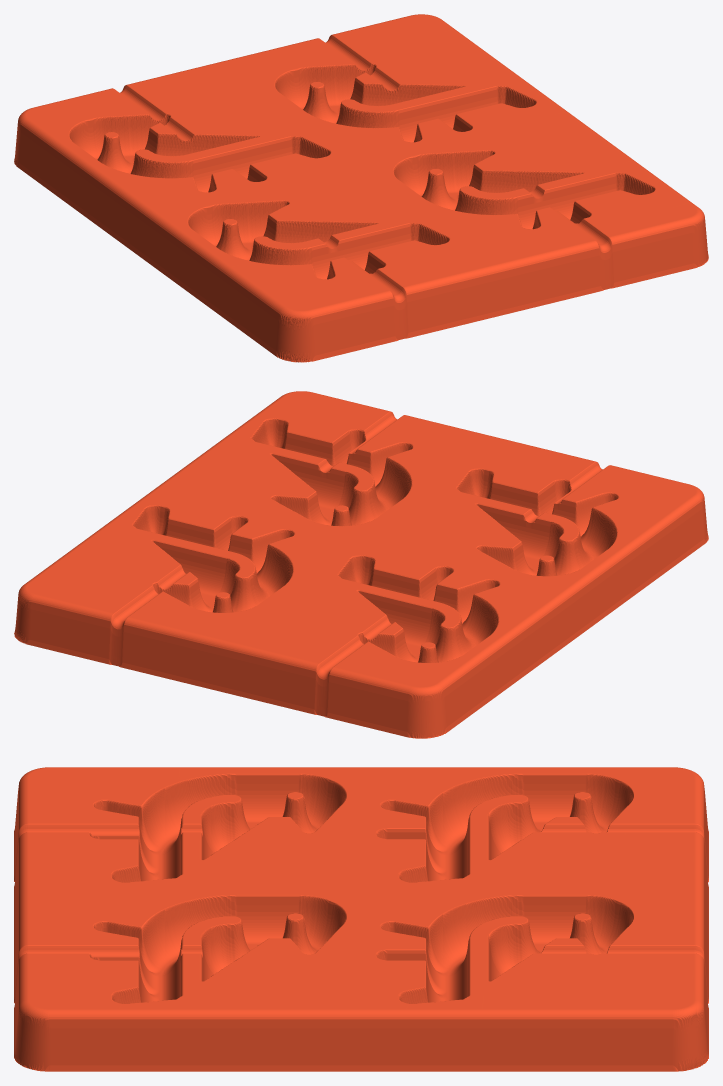
File: mold.glb
The picture shows the model from 3 angles, top to bottom: view 1: azimuth 30°, elevation 25°; view 2: azimuth 150°, elevation 25°; view 3: azimuth 270°, elevation 25°; orthographic projection. The views are drawn at different scales.
Parts seen in each view (by area): view 1: geometry_0; view 2: geometry_0; view 3: geometry_0.
Part boxes in pixels (left/top/right/bottom): geometry_0: left=14, top=14, right=708, bottom=362; geometry_0: left=14, top=391, right=708, bottom=738; geometry_0: left=14, top=767, right=708, bottom=1071.
Size of the model in its own units: 0.1497 by 0.0155 by 0.1735.
